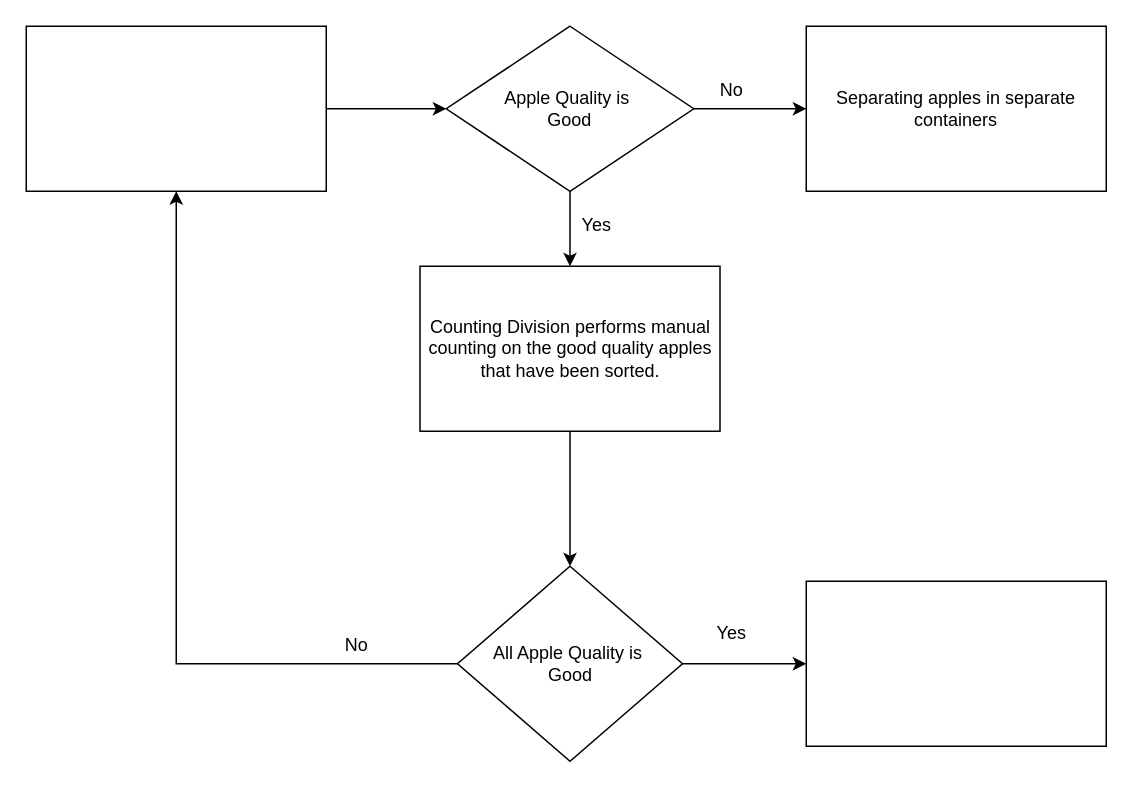
Image size: 1133x788. Some labels were removed from this diagram. Here are the shapes that lost their labels. From the top down, the centre of each, then its label:
At point 175,108: "The Quality Control Division manually sorts the apples based on their quality.".
At point 955,663: "Moving Apples to the Production Division".
